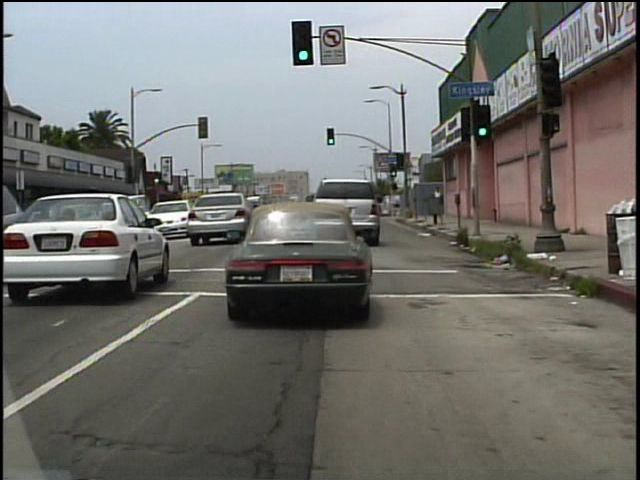person: (431, 184, 445, 216)
